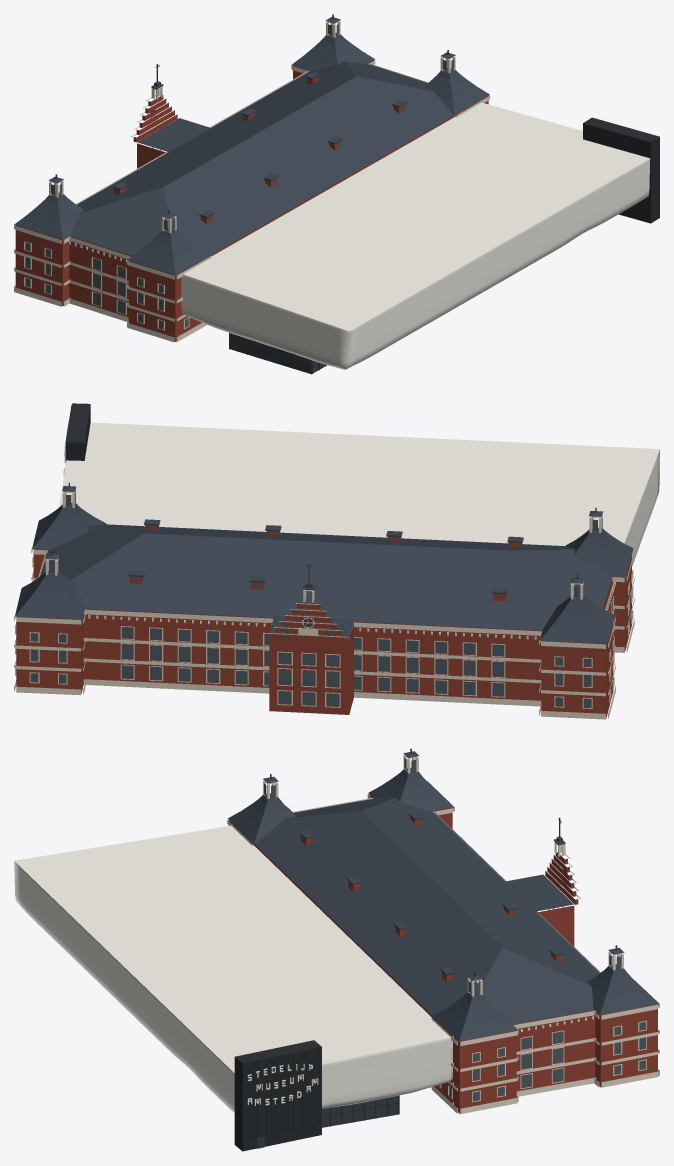
Rendered from stedelijk-museum-near.glb.
3 views of the same model, one above another, from view 1: azimuth 30°, elevation 25°; view 2: azimuth 150°, elevation 25°; view 3: azimuth 270°, elevation 25° (orthographic). The views are drawn at different scales.
Parts seen in each view (by area): view 1: stedelijk-museum-0-white, stedelijk-museum-0-slate, stedelijk-museum-0-brick, stedelijk-museum-0-stone, stedelijk-museum-0-mesh, stedelijk-museum-0-glass, stedelijk-museum-0-light; view 2: stedelijk-museum-0-white, stedelijk-museum-0-slate, stedelijk-museum-0-brick, stedelijk-museum-0-stone, stedelijk-museum-0-glass, stedelijk-museum-0-mesh; view 3: stedelijk-museum-0-white, stedelijk-museum-0-slate, stedelijk-museum-0-brick, stedelijk-museum-0-mesh, stedelijk-museum-0-stone, stedelijk-museum-0-glass, stedelijk-museum-0-light, stedelijk-museum-0-sign.
Part boxes in pixels (x1=…): stedelijk-museum-0-white: x1=181, y1=102, x2=650, y2=369; stedelijk-museum-0-slate: x1=14, y1=14, x2=489, y2=275; stedelijk-museum-0-brick: x1=15, y1=60, x2=488, y2=341; stedelijk-museum-0-stone: x1=14, y1=21, x2=490, y2=342; stedelijk-museum-0-mesh: x1=229, y1=117, x2=659, y2=374; stedelijk-museum-0-glass: x1=25, y1=24, x2=454, y2=328; stedelijk-museum-0-light: x1=230, y1=333, x2=326, y2=373; stedelijk-museum-0-white: x1=59, y1=422, x2=659, y2=566; stedelijk-museum-0-slate: x1=15, y1=482, x2=633, y2=643; stedelijk-museum-0-brick: x1=16, y1=525, x2=631, y2=718; stedelijk-museum-0-stone: x1=14, y1=489, x2=634, y2=719; stedelijk-museum-0-glass: x1=30, y1=492, x2=632, y2=707; stedelijk-museum-0-mesh: x1=65, y1=403, x2=90, y2=462; stedelijk-museum-0-white: x1=14, y1=825, x2=452, y2=1112; stedelijk-museum-0-slate: x1=228, y1=748, x2=658, y2=1041; stedelijk-museum-0-brick: x1=229, y1=795, x2=657, y2=1113; stedelijk-museum-0-mesh: x1=234, y1=1040, x2=399, y2=1151; stedelijk-museum-0-stone: x1=227, y1=755, x2=659, y2=1113; stedelijk-museum-0-glass: x1=264, y1=758, x2=645, y2=1100; stedelijk-museum-0-light: x1=257, y1=1096, x2=398, y2=1148; stedelijk-museum-0-sign: x1=247, y1=1063, x2=318, y2=1105.
Bounding box in the file's own units: 123 × 28 × 113.
